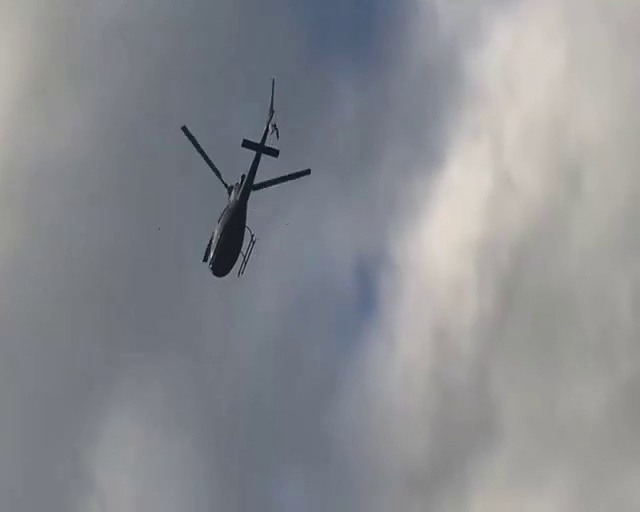HELICOPTER: (180, 75, 314, 279)
